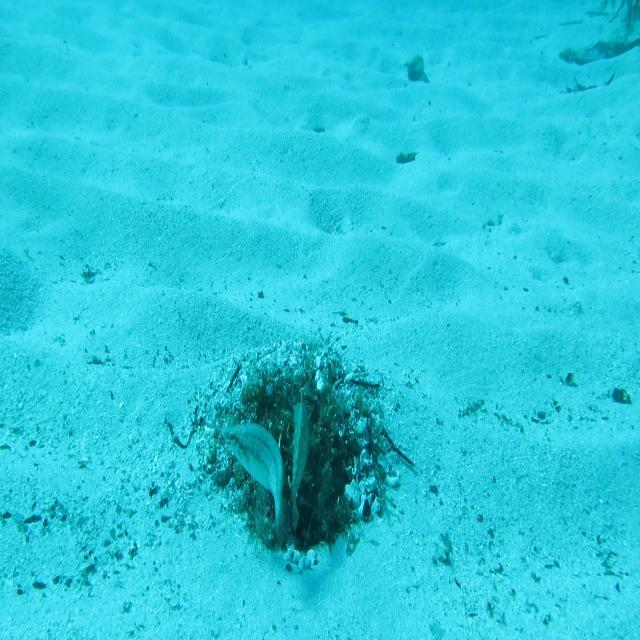FAN: (289, 387, 311, 535)
core_nest: (266, 388, 318, 434)
female: (220, 420, 292, 551)
nest: (188, 326, 408, 588)
vegetation: (554, 0, 640, 100), (402, 55, 433, 87), (393, 146, 418, 167)
